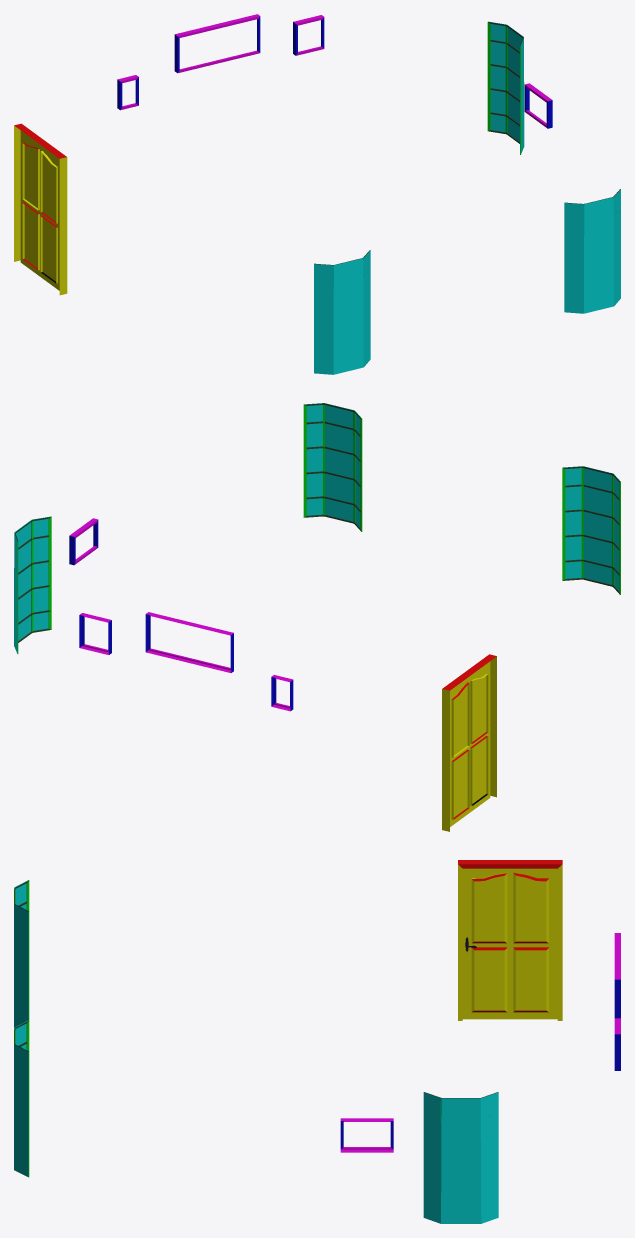
The model's file is SM_WallAssets_001.fbx.
3 renders of one model, top to bottom at view 1: azimuth 30°, elevation 25°; view 2: azimuth 150°, elevation 25°; view 3: azimuth 270°, elevation 25°, orthographic. The views are drawn at different scales.
Parts seen in each view (by area): view 1: SM_WallAssets_001; view 2: SM_WallAssets_001; view 3: SM_WallAssets_001.
Part boxes in pixels (left/top/right/bottom): SM_WallAssets_001: left=14, top=14, right=620, bottom=374; SM_WallAssets_001: left=14, top=403, right=620, bottom=831; SM_WallAssets_001: left=14, top=860, right=620, bottom=1223.
Size of the model in its own units: 829 by 284 by 831.
